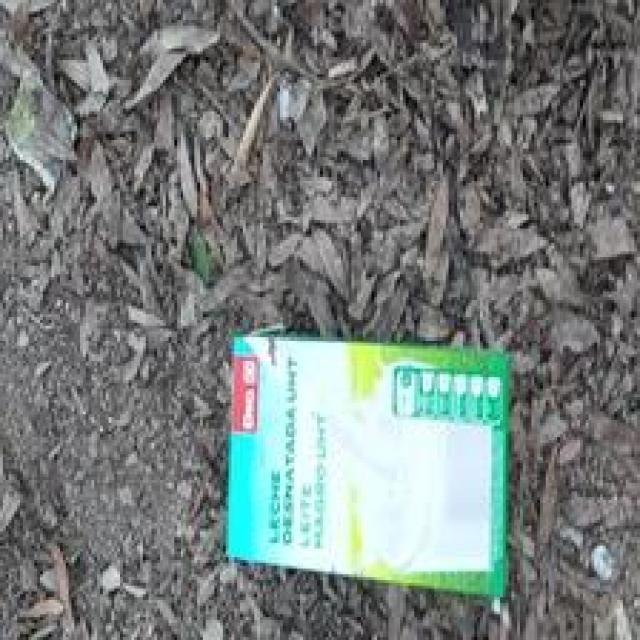Carton: (230, 337, 514, 612)
